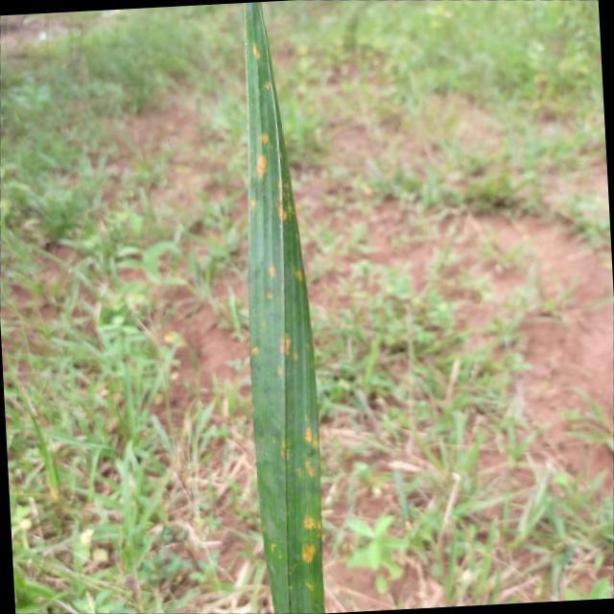Kalium: (240, 1, 323, 614)
